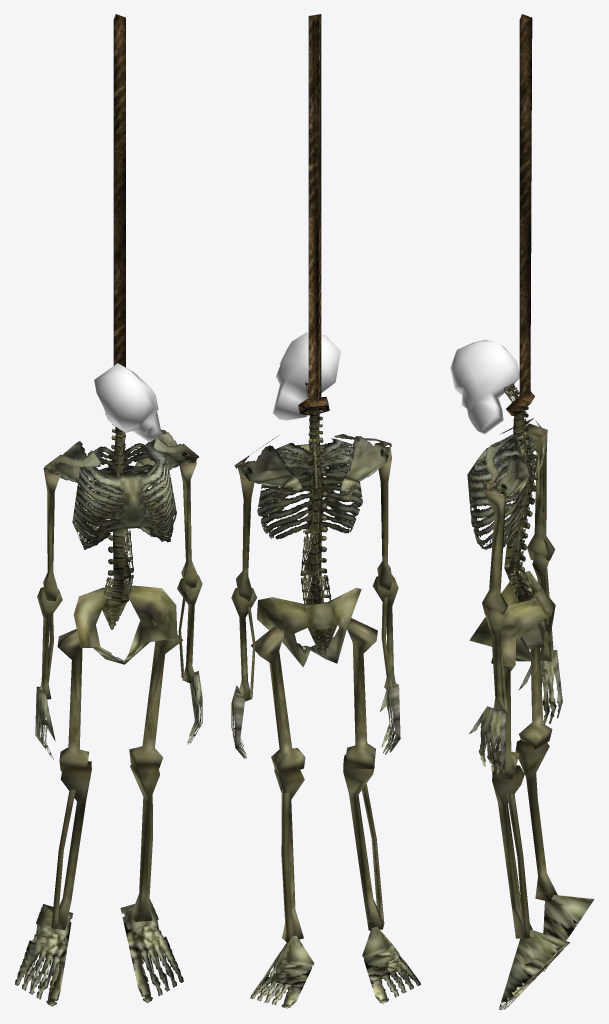
File: KM_VOB_HANGMAN.glb
3 renders of one model, left to right at view 1: azimuth 30°, elevation 25°; view 2: azimuth 210°, elevation 25°; view 3: azimuth 270°, elevation 25°, orthographic.
Visible parts, largest first — view 1: Mesh; view 2: Mesh; view 3: Mesh.
Part boxes in pixels (x1=…): Mesh: x1=15, y1=14, x2=202, y2=1006; Mesh: x1=231, y1=14, x2=420, y2=1008; Mesh: x1=450, y1=14, x2=594, y2=1009.
Bounding box in the file's own units: 0.4779 × 2.94 × 0.3898.
Materials: 3 (2 with a texture image).
